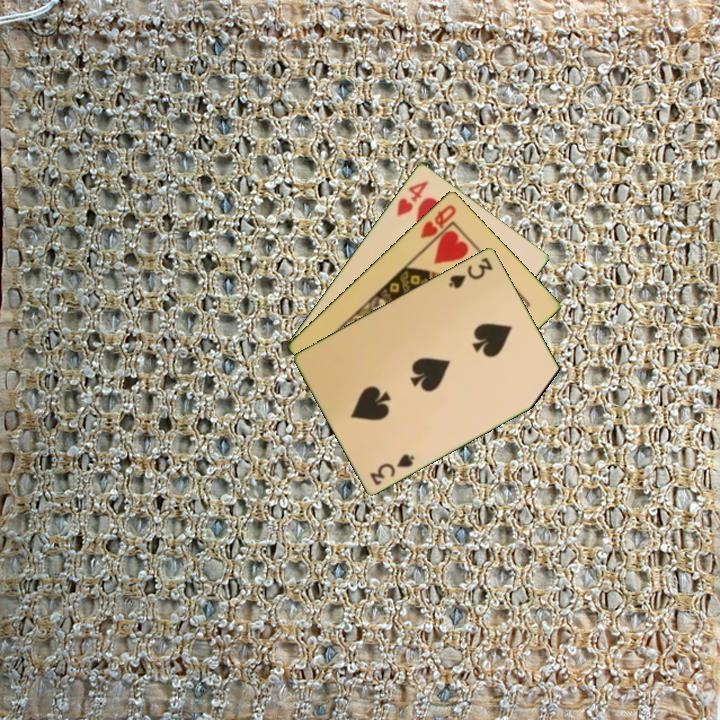3s: (366, 450, 418, 488), (445, 253, 496, 291)
4h: (393, 177, 431, 219)
Qh: (416, 201, 459, 241)
